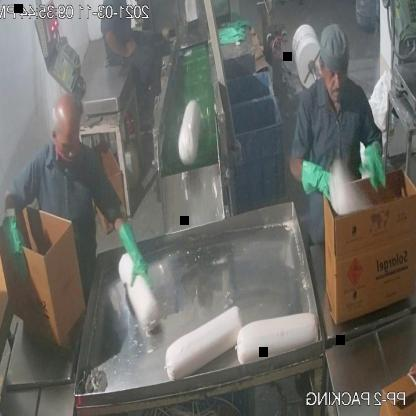glove: (113, 220, 156, 294), (357, 131, 393, 201), (0, 209, 34, 275)
no_glove: (101, 25, 143, 64)
